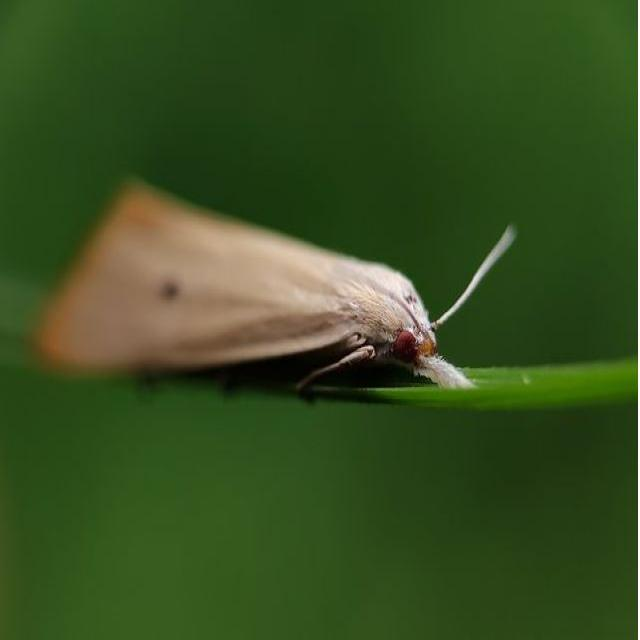rice stem borer -penggerek batang padi-: (32, 172, 516, 398)
